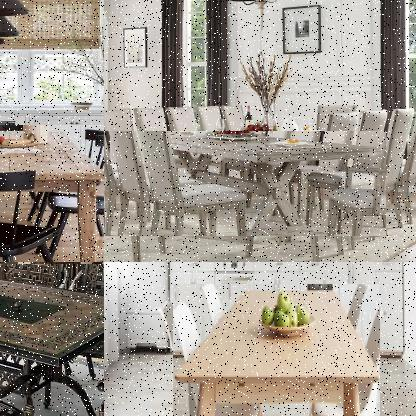table: (105, 132, 387, 237), (172, 284, 382, 415), (0, 264, 103, 415), (0, 125, 103, 261)
